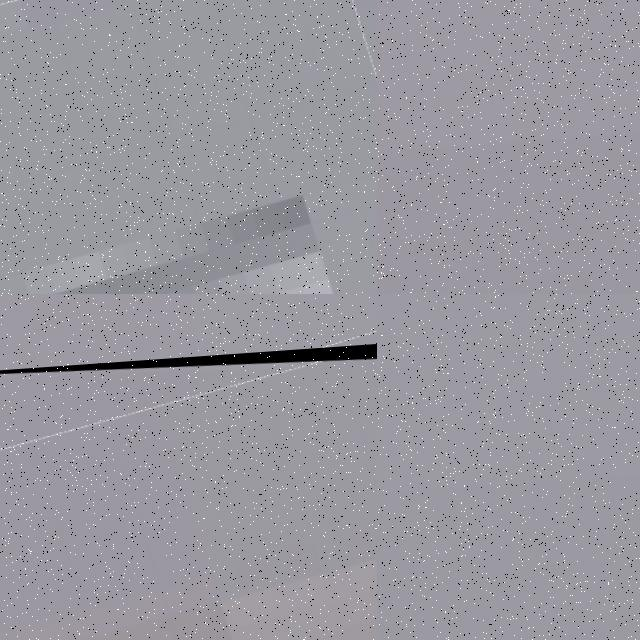drone: (0, 333, 377, 640), (0, 0, 377, 294)
